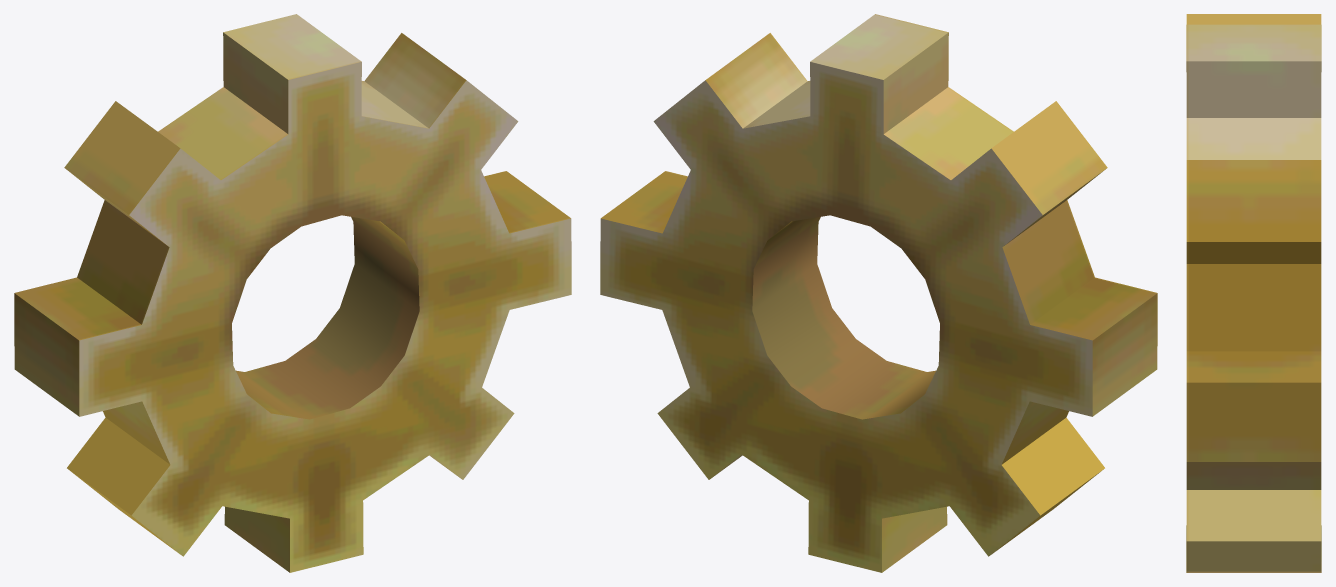
Rendered from Engranaje.fbx.
3 renders of one model, left to right at view 1: azimuth 30°, elevation 25°; view 2: azimuth 150°, elevation 25°; view 3: azimuth 270°, elevation 25°, orthographic. The views are drawn at different scales.
Parts seen in each view (by area): view 1: Engranaje; view 2: Engranaje; view 3: Engranaje.
Part boxes in pixels (box(x1,y1,x2,y2)): Engranaje: box(14, 14, 571, 572); Engranaje: box(600, 14, 1157, 572); Engranaje: box(1186, 14, 1321, 572).
Size of the model in its own units: 2.63 by 2.52 by 0.6035.
